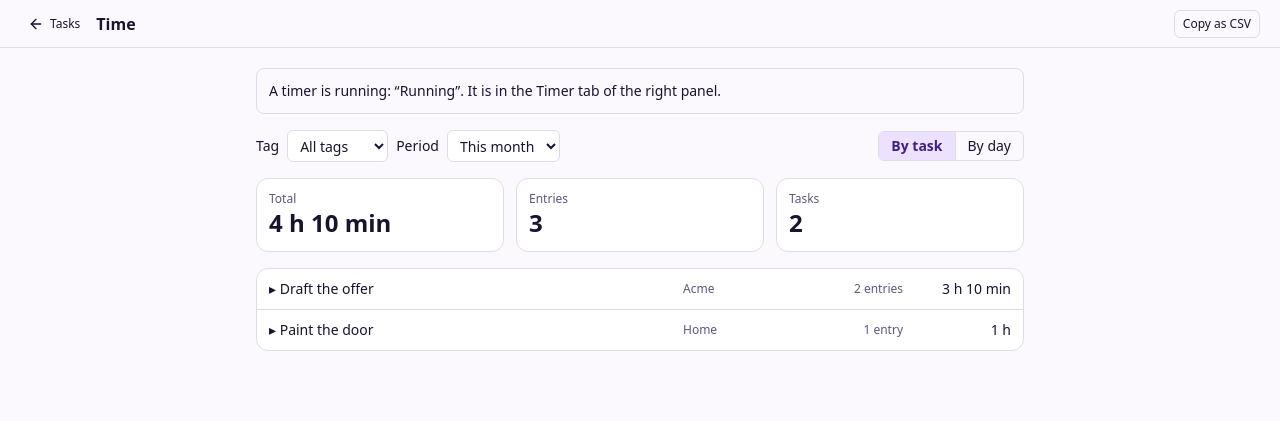
Test: TimePage › opens a task to show each entry with its hours and note
This screenshot has width=1280, height=421.
Step 1. Click the button "▸ Draft the offer Acme 2 entries 3 h 10 min" → click(327, 288), box [257,269,1023,309]
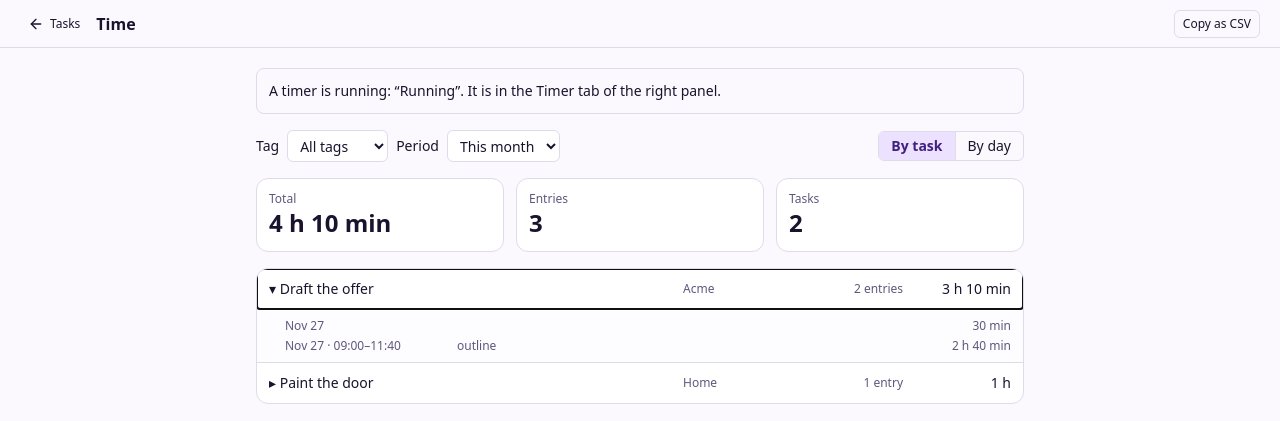
Check: the text "Nov 27 · 09:00–11:40" is shown, box [285,337,401,354]
Check: the text "outline" is shown, box [457,337,496,354]
